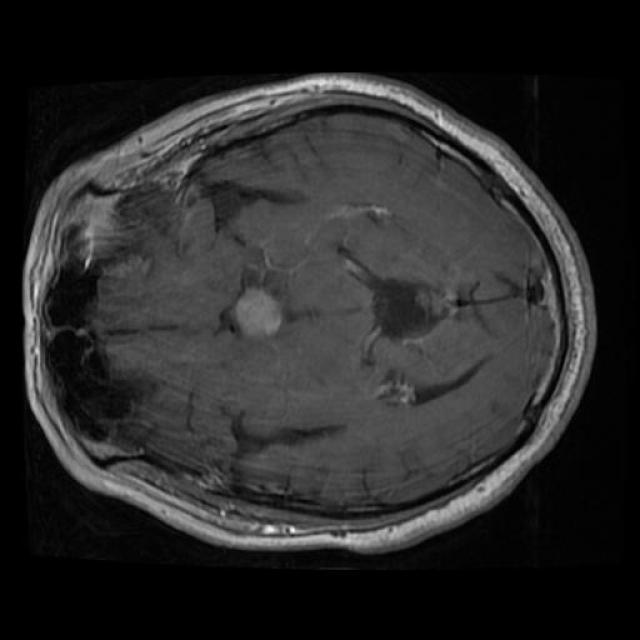Pituitary: (230, 288, 281, 336)
